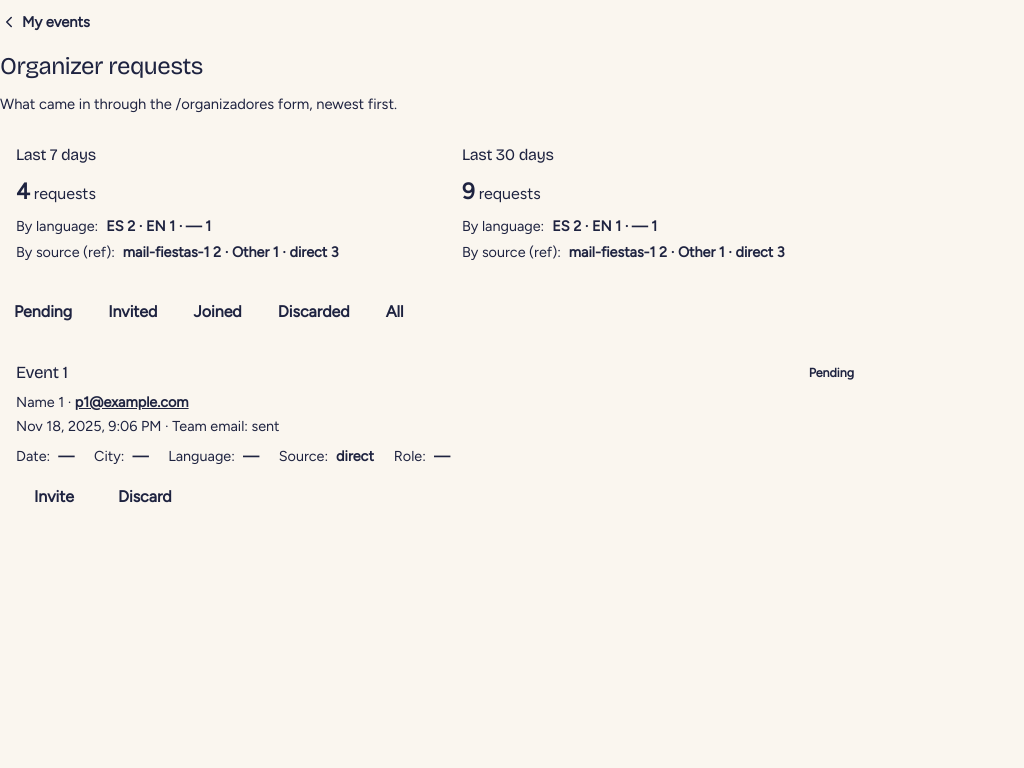
Test: admin requests: invite › shows the link once when the email failed, copies it, and forgets it when the dialog closes
The image size is (1024, 768).
Click the button with aria-label "Invite: Name 1".
click(54, 497)  # box [16,475,92,519]
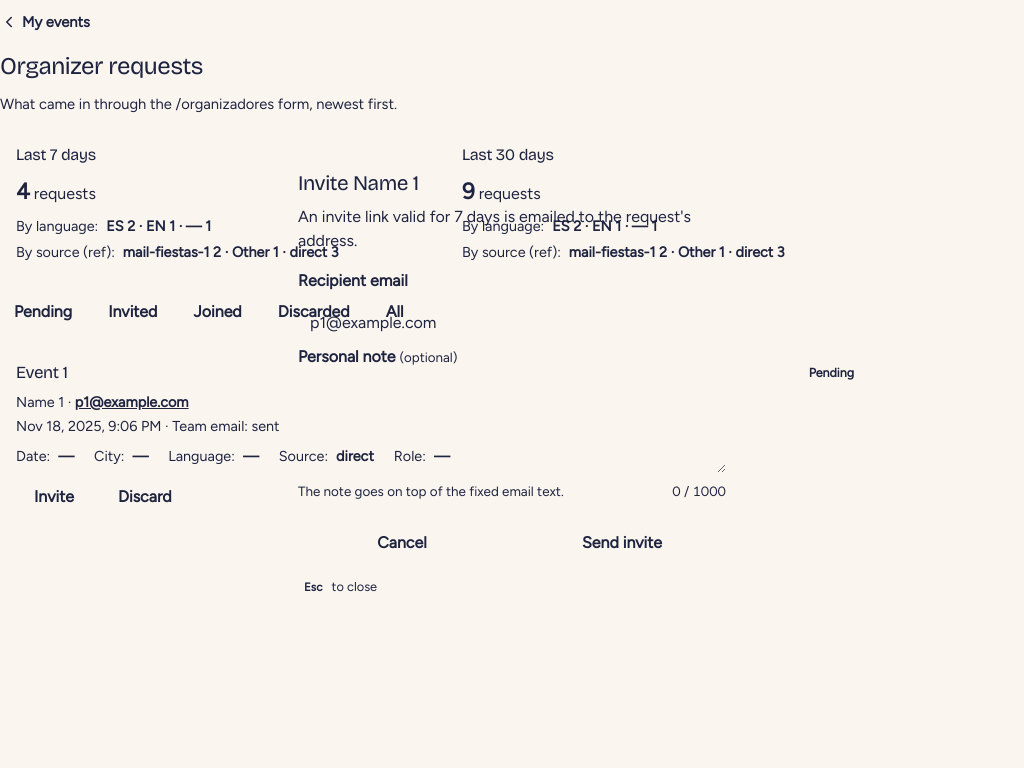
Click the button "Send invite".
click(622, 543)  # box [518,521,726,565]
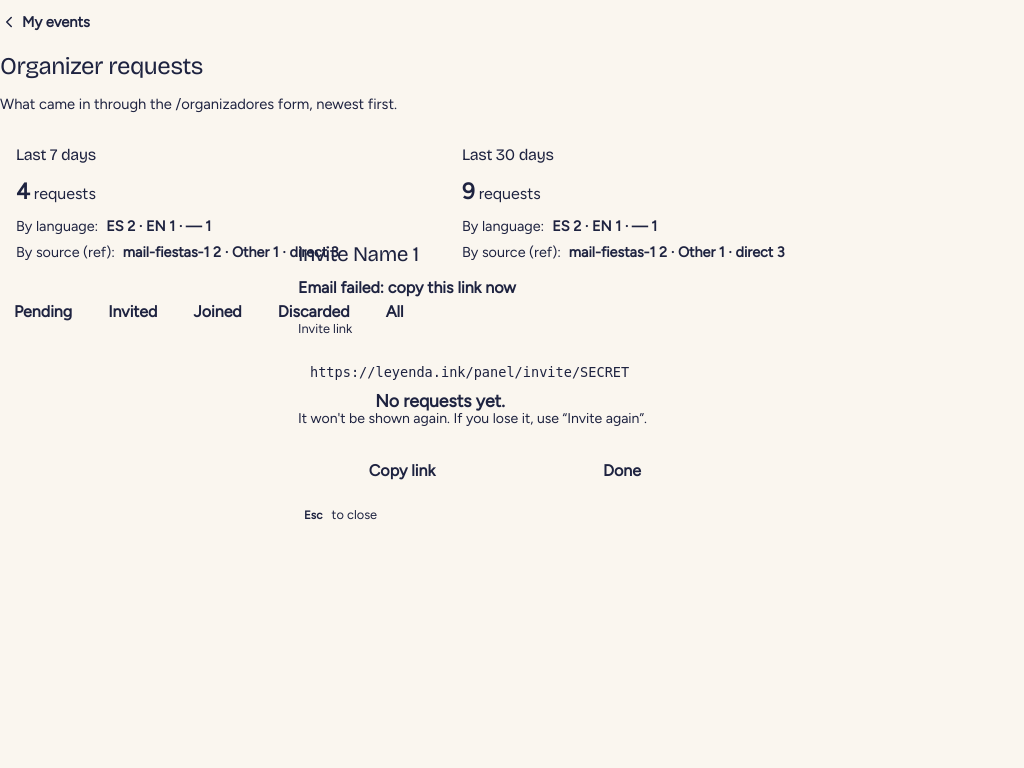
Expected: the text "Email failed: copy this link now" is shown, [298,278,516,297]
Expected: the field labelled "Invite link" holds "https://leyenda.ink/panel/invite/SECRET", [298,348,726,396]
Expected: the text "It won't be shown again. If you lose it, use “Invite again”." is shown, [298,410,647,427]
Click the button "Copy link".
click(402, 471)  # box [298,449,506,493]
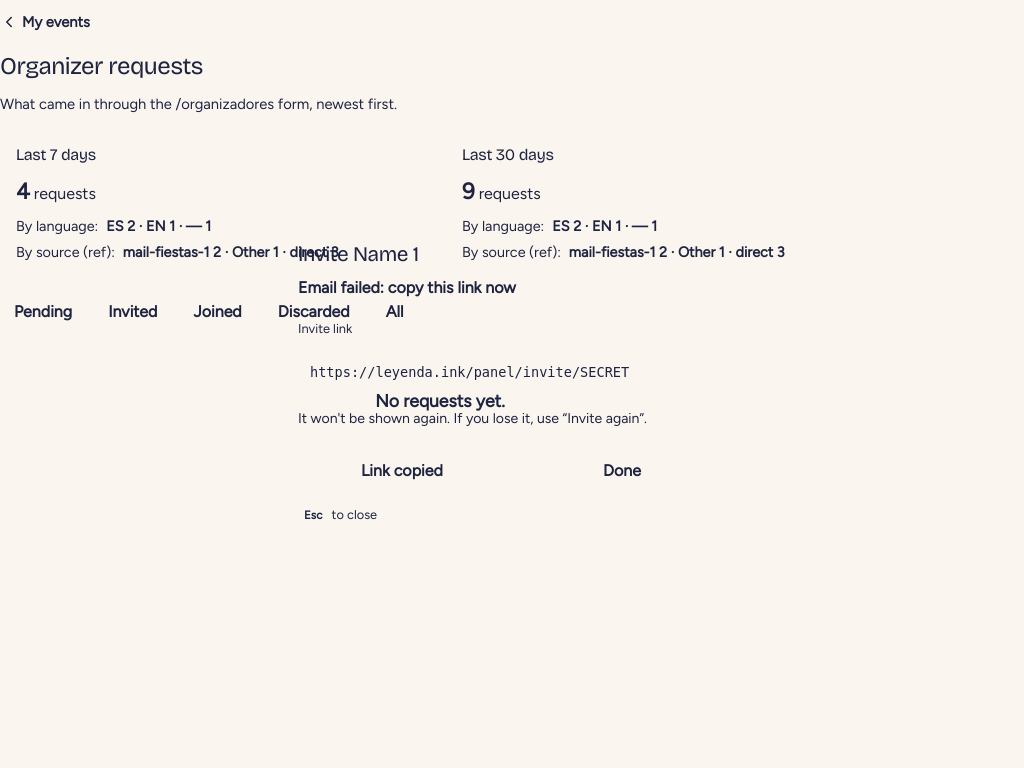
Click the button "Done".
click(622, 471)  # box [518,449,726,493]
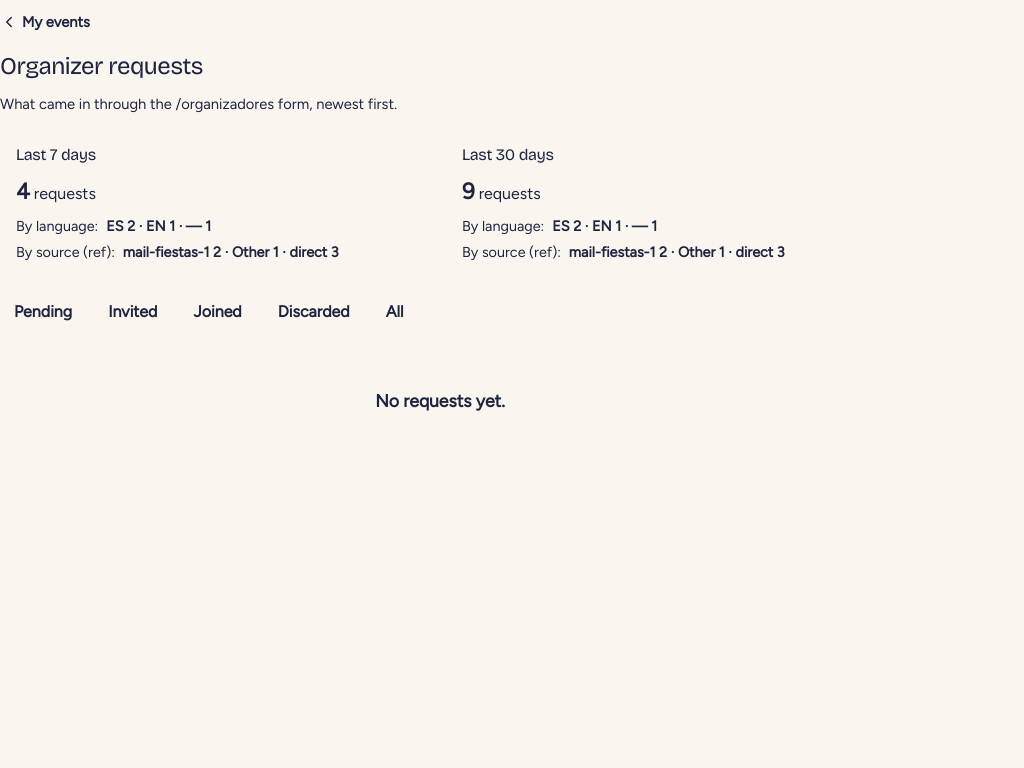
Expected: the text "SECRET" is not shown
Expected: the dialog is gone
